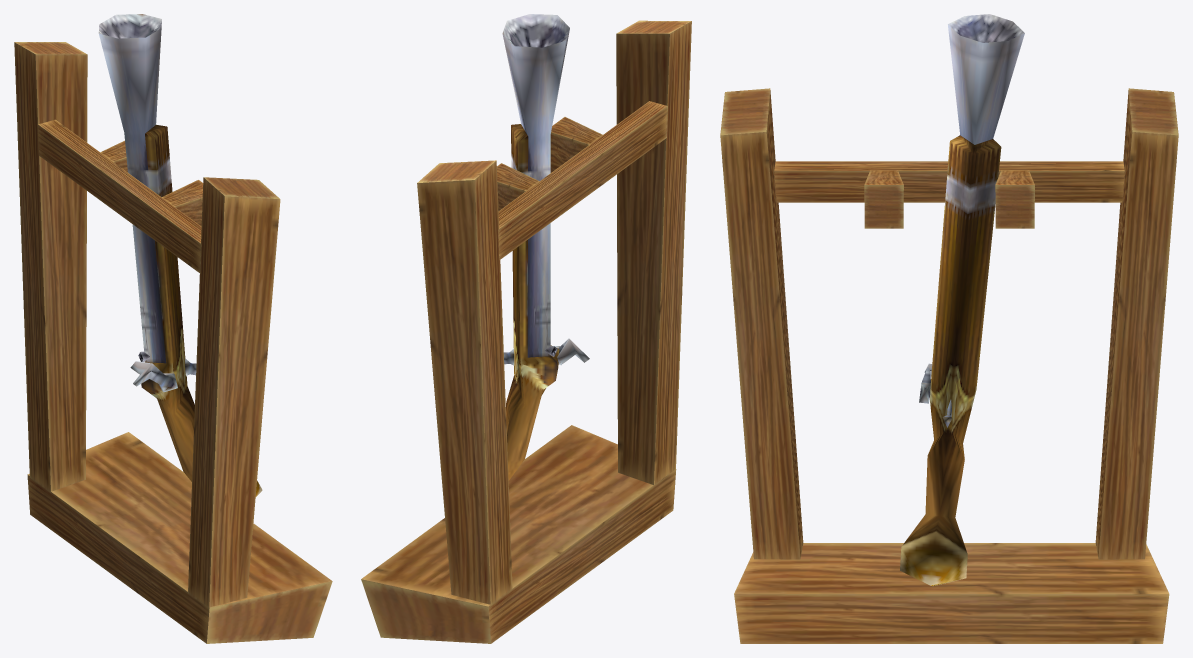
File: gunrack02b.obj
3 renders of one model, left to right at view 1: azimuth 30°, elevation 25°; view 2: azimuth 150°, elevation 25°; view 3: azimuth 270°, elevation 25°, orthographic. The views are drawn at different scales.
Visible parts, largest first — view 1: 1, 0; view 2: 1, 0; view 3: 1, 0.
Part boxes in pixels (x1=…): 1: x1=14, y1=42, x2=332, y2=643; 0: x1=98, y1=14, x2=262, y2=496; 1: x1=361, y1=20, x2=691, y2=643; 0: x1=502, y1=14, x2=589, y2=480; 1: x1=720, y1=88, x2=1178, y2=643; 0: x1=900, y1=14, x2=1024, y2=586.
Size of the model in its own units: 0.4711 by 1.81 by 1.29.
2 materials, 2 textured.
